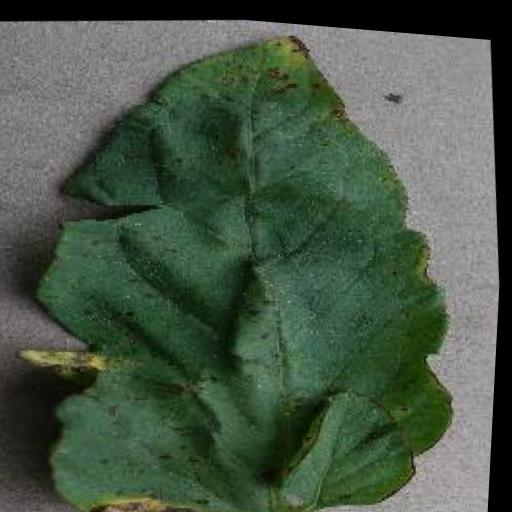Bacterial Spot: (0, 0, 491, 512)
